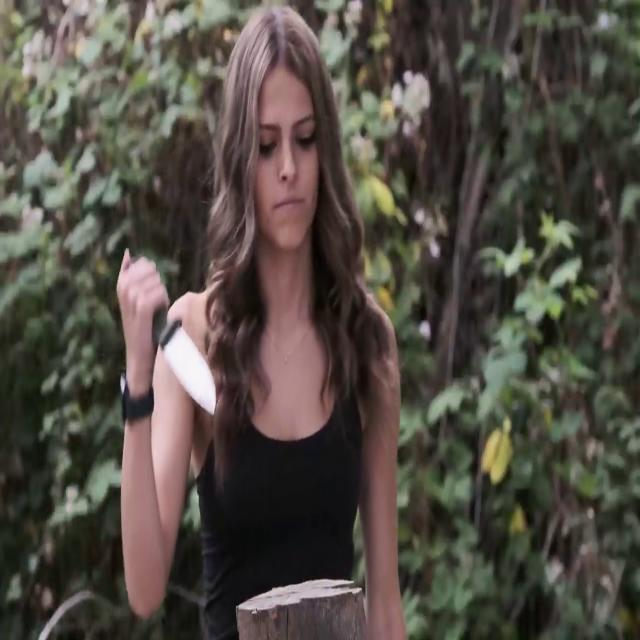Knife: (121, 246, 219, 420)
